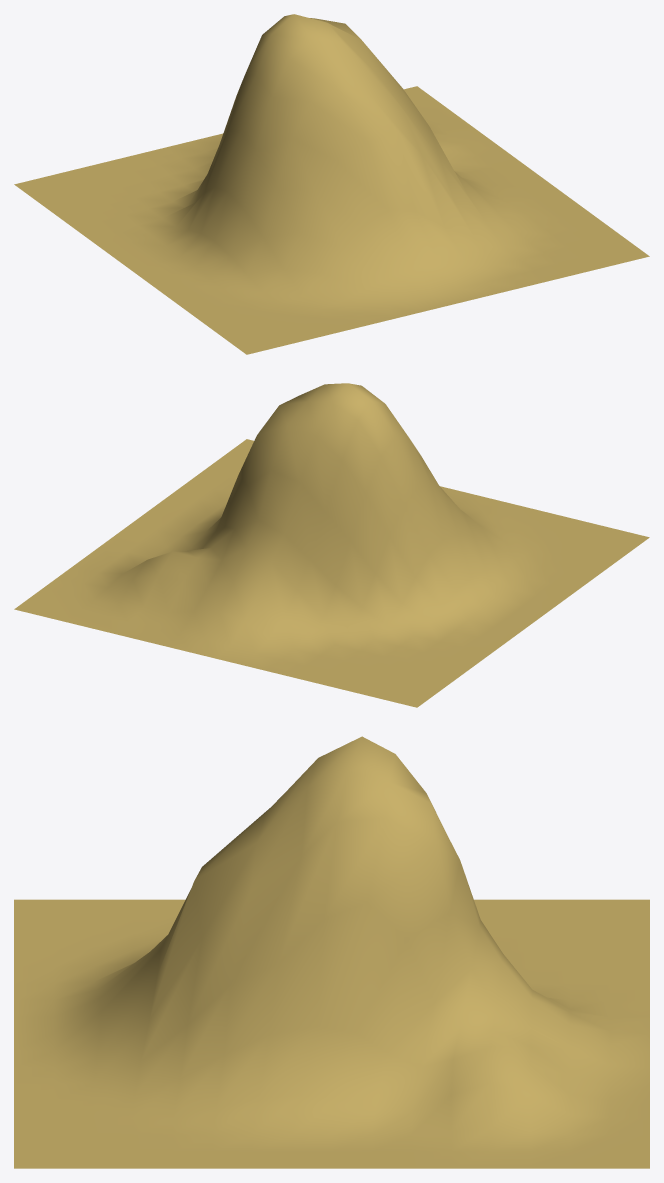
The model's file is mountain.glb.
3 renders of one model, top to bottom at view 1: azimuth 30°, elevation 25°; view 2: azimuth 150°, elevation 25°; view 3: azimuth 270°, elevation 25°, orthographic. The views are drawn at different scales.
Visible parts, largest first — view 1: Mountain; view 2: Mountain; view 3: Mountain.
Boxes of the visible parts, left/top/right/bottom form: Mountain: left=14, top=14, right=649, bottom=354; Mountain: left=14, top=383, right=649, bottom=707; Mountain: left=14, top=736, right=649, bottom=1168.
Size of the model in its own units: 100 by 48.55 by 100.
